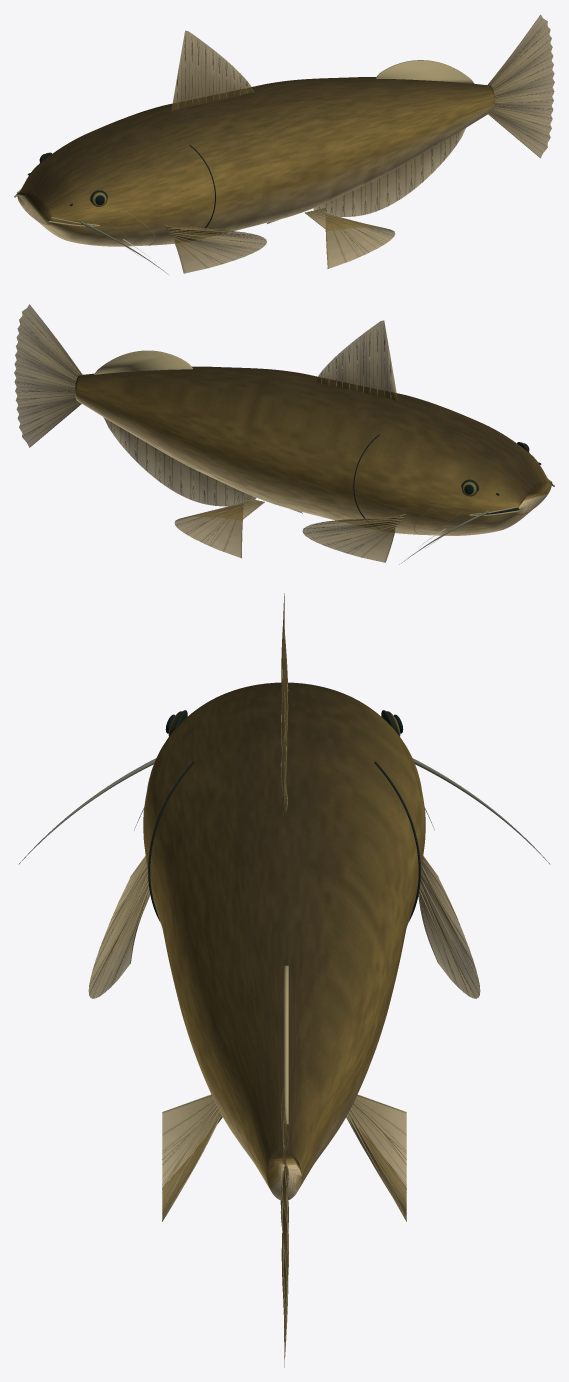
Rendered from yellow-bullhead.glb.
The picture shows the model from 3 angles, top to bottom: view 1: azimuth 30°, elevation 25°; view 2: azimuth 150°, elevation 25°; view 3: azimuth 270°, elevation 25°; orthographic projection. The views are drawn at different scales.
Visible parts, largest first — view 1: yellow-bullhead specimen; view 2: yellow-bullhead specimen; view 3: yellow-bullhead specimen.
Boxes of the visible parts, x1,y1,x2,y2 form: yellow-bullhead specimen: (14, 14, 554, 274); yellow-bullhead specimen: (14, 304, 554, 564); yellow-bullhead specimen: (18, 593, 550, 1367).
Size of the model in its own units: 2.02 by 0.896 by 0.8898.
14 materials, 5 textured.
